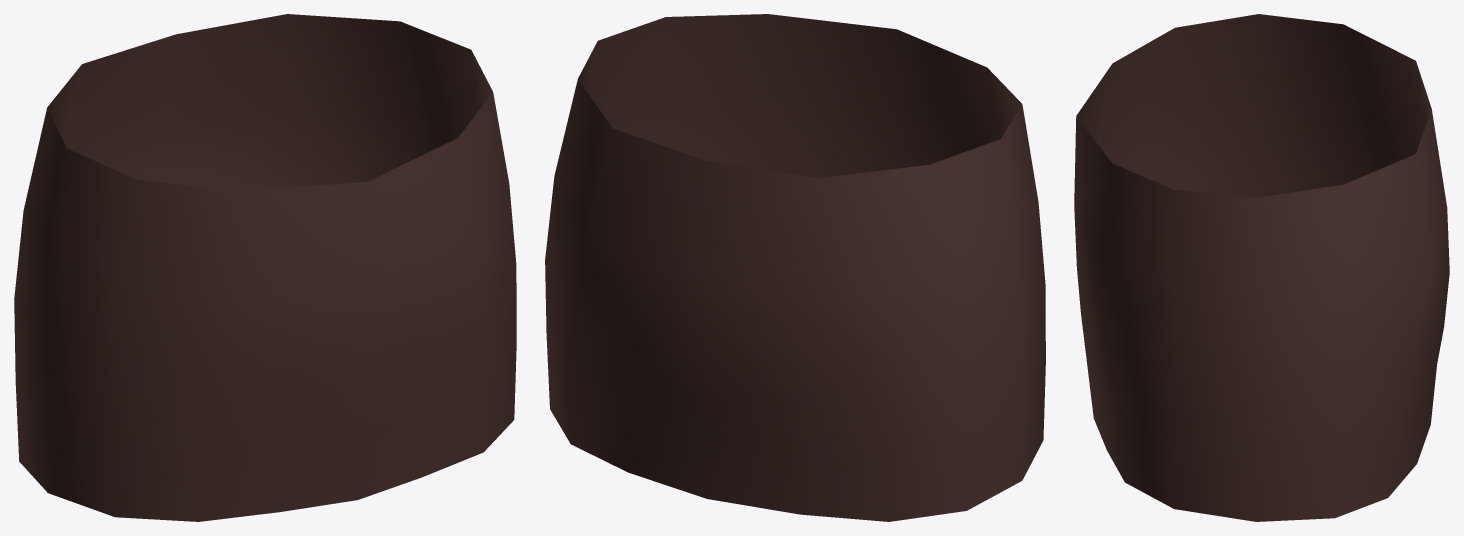
Rendered from Pants_Brown_005.glb.
The picture shows the model from 3 angles, left to right: view 1: azimuth 30°, elevation 25°; view 2: azimuth 150°, elevation 25°; view 3: azimuth 270°, elevation 25°; orthographic projection. The views are drawn at different scales.
Visible parts, largest first — view 1: Pants_Brown_005; view 2: Pants_Brown_005; view 3: Pants_Brown_005.
Boxes of the visible parts, box(x1,y1,x2,y2) form: Pants_Brown_005: box(14, 14, 516, 521); Pants_Brown_005: box(545, 14, 1045, 521); Pants_Brown_005: box(1074, 14, 1449, 521).
Bounding box in the file's own units: 0.4681 × 0.3437 × 0.3645.
Materials: 1 (1 with a texture image).
